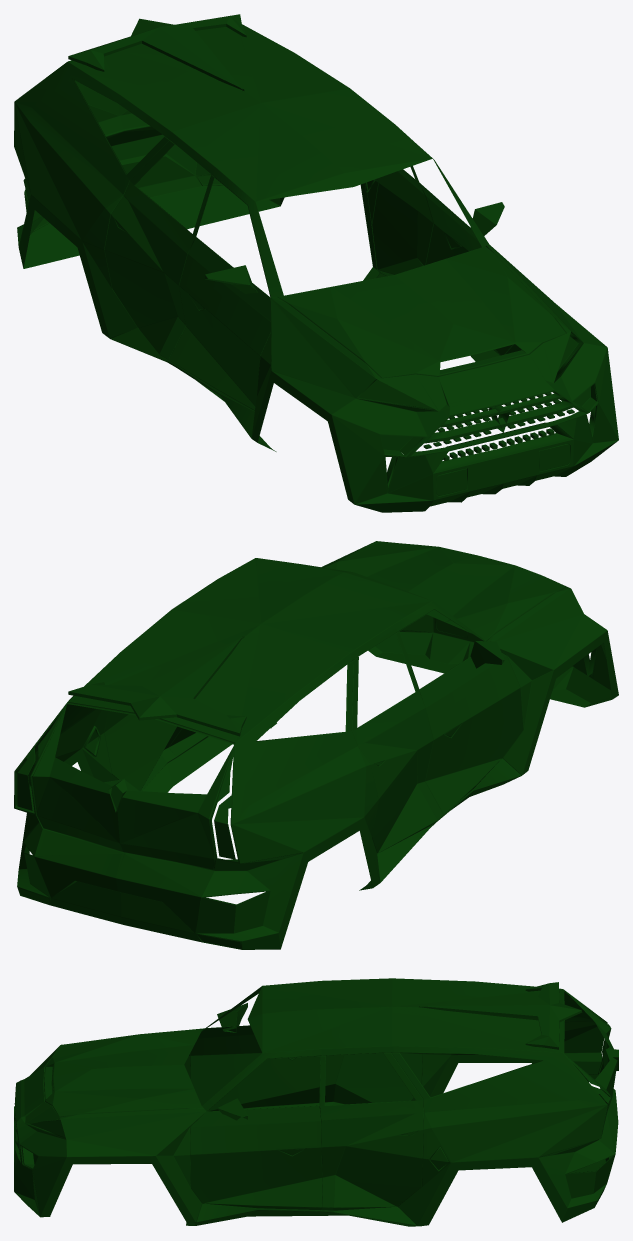
3 views of the same model, one above another, from view 1: azimuth 30°, elevation 25°; view 2: azimuth 150°, elevation 25°; view 3: azimuth 270°, elevation 25° (orthographic). The views are drawn at different scales.
Parts seen in each view (by area): view 1: Object_4; view 2: Object_4; view 3: Object_4.
Boxes of the visible parts, bbox=[...] form: Object_4: bbox=[14, 14, 618, 512]; Object_4: bbox=[14, 541, 618, 949]; Object_4: bbox=[14, 978, 618, 1226].
Size of the model in its own units: 2.42 by 1.77 by 5.46.
